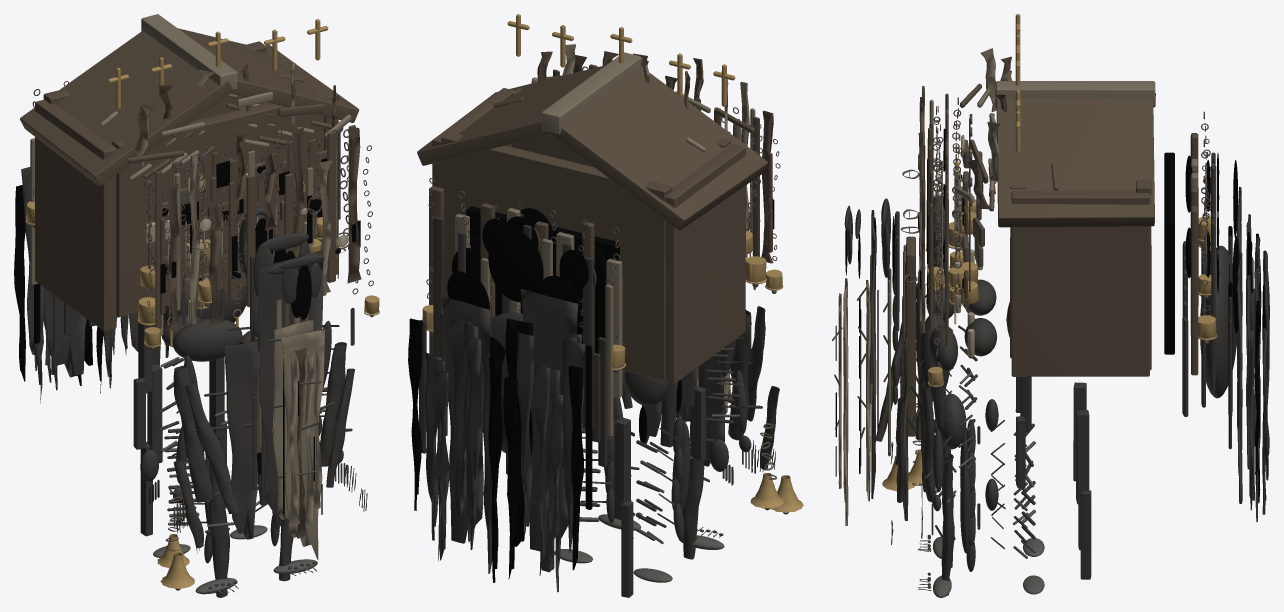
The model's file is penance_carrier_end_goal_v11_7_end_goal_readability.glb.
The picture shows the model from 3 angles, left to right: view 1: azimuth 30°, elevation 25°; view 2: azimuth 150°, elevation 25°; view 3: azimuth 270°, elevation 25°; orthographic projection. The views are drawn at different scales.
Parts seen in each view (by area): view 1: PC_V4_shrine_front_rotten_wall, PC_V4_shrine_left_side_wall, PC_V4_roof_left_steep_slab, PC_V11_left_torn_front_cloak_sheet, PC_V11_black_inner_hanging_cloth_behind_mask, PC_V4_roof_right_steep_slab, PC_V11_7_long_rotted_door_mask_slab, PC_V4_roof_ridge_heavy_rot, PC_V11_warped_central_door_mask_panel, PC_V11_5_left_arm_pinched_wrapped_sculpt, PC_V11_crushed_left_shoulder_meat, PC_V11_7_left_arm_heavy_bowed_sleeve_end_goal (+42 smaller); view 2: PC_V4_shrine_rear_rotten_wall, PC_V4_roof_left_steep_slab, PC_V4_shrine_left_side_wall, PC_V4_roof_right_steep_slab, PC_V11_back_rotten_skin_sheet_left, PC_V11_back_rotten_skin_sheet_right, PC_V11_back_deep_rotted_hole_01, PC_V4_roof_ridge_heavy_rot, PC_V11_6_back_thin_torn_rag_layer_02, PC_V4_back_black_rotten_hollow, PC_V11_7_back_rotten_interior_tongue_02, PC_V11_5_back_layered_rotten_sheet_04 (+52 smaller); view 3: PC_V4_shrine_right_side_wall, PC_V4_roof_right_steep_slab, PC_V4_roof_ridge_heavy_rot, PC_V11_back_swollen_rotten_under_mass, PC_V4_back_black_rotten_hollow, PC_V6_long_door_mask_front, PC_V5_back_rotten_vertical_plank_07, PC_V11_black_inner_hanging_cloth_behind_mask, PC_V11_back_rotten_skin_sheet_right, PC_V11_5_right_leg_compressed_wrapped_sculpt, PC_V11_5_right_arm_pinched_wrapped_sculpt, PC_V11_7_long_rotted_door_mask_slab (+27 smaller).
Part boxes in pixels (bbox=[...]): PC_V4_shrine_front_rotten_wall: bbox=[112, 91, 324, 317]; PC_V4_shrine_left_side_wall: bbox=[35, 99, 116, 331]; PC_V4_roof_left_steep_slab: bbox=[20, 31, 233, 186]; PC_V11_left_torn_front_cloak_sheet: bbox=[225, 340, 259, 539]; PC_V11_black_inner_hanging_cloth_behind_mask: bbox=[257, 250, 323, 515]; PC_V4_roof_right_steep_slab: bbox=[178, 28, 359, 122]; PC_V11_7_long_rotted_door_mask_slab: bbox=[281, 328, 325, 559]; PC_V4_roof_ridge_heavy_rot: bbox=[141, 14, 237, 89]; PC_V11_warped_central_door_mask_panel: bbox=[272, 319, 313, 519]; PC_V11_5_left_arm_pinched_wrapped_sculpt: bbox=[173, 365, 214, 502]; PC_V11_crushed_left_shoulder_meat: bbox=[173, 318, 242, 361]; PC_V11_7_left_arm_heavy_bowed_sleeve_end_goal: bbox=[184, 381, 238, 513]; PC_V4_shrine_rear_rotten_wall: bbox=[441, 132, 672, 380]; PC_V4_roof_left_steep_slab: bbox=[551, 66, 768, 230]; PC_V4_shrine_left_side_wall: bbox=[662, 144, 745, 383]; PC_V4_roof_right_steep_slab: bbox=[417, 66, 602, 165]; PC_V11_back_rotten_skin_sheet_left: bbox=[520, 289, 578, 551]; PC_V11_back_rotten_skin_sheet_right: bbox=[441, 296, 491, 543]; PC_V11_back_deep_rotted_hole_01: bbox=[488, 229, 543, 302]; PC_V4_roof_ridge_heavy_rot: bbox=[541, 52, 641, 133]; PC_V11_6_back_thin_torn_rag_layer_02: bbox=[516, 332, 534, 532]; PC_V4_back_black_rotten_hollow: bbox=[466, 206, 619, 353]; PC_V11_7_back_rotten_interior_tongue_02: bbox=[465, 336, 482, 549]; PC_V11_5_back_layered_rotten_sheet_04: bbox=[449, 318, 472, 514]; PC_V4_shrine_right_side_wall: bbox=[1011, 191, 1150, 376]; PC_V4_roof_right_steep_slab: bbox=[996, 98, 1154, 227]; PC_V4_roof_ridge_heavy_rot: bbox=[995, 81, 1155, 106]; PC_V11_back_swollen_rotten_under_mass: bbox=[1200, 245, 1237, 398]; PC_V4_back_black_rotten_hollow: bbox=[1164, 152, 1174, 354]; PC_V6_long_door_mask_front: bbox=[906, 236, 915, 436]; PC_V5_back_rotten_vertical_plank_07: bbox=[1190, 205, 1198, 375]; PC_V11_black_inner_hanging_cloth_behind_mask: bbox=[871, 210, 876, 498]; PC_V11_back_rotten_skin_sheet_right: bbox=[1237, 253, 1242, 503]; PC_V11_5_right_leg_compressed_wrapped_sculpt: bbox=[941, 453, 953, 595]; PC_V11_5_right_arm_pinched_wrapped_sculpt: bbox=[921, 382, 935, 502]; PC_V11_7_long_rotted_door_mask_slab: bbox=[843, 278, 848, 525].
Bounding box in the file's own units: 2.34 × 4.48 × 3.35.
